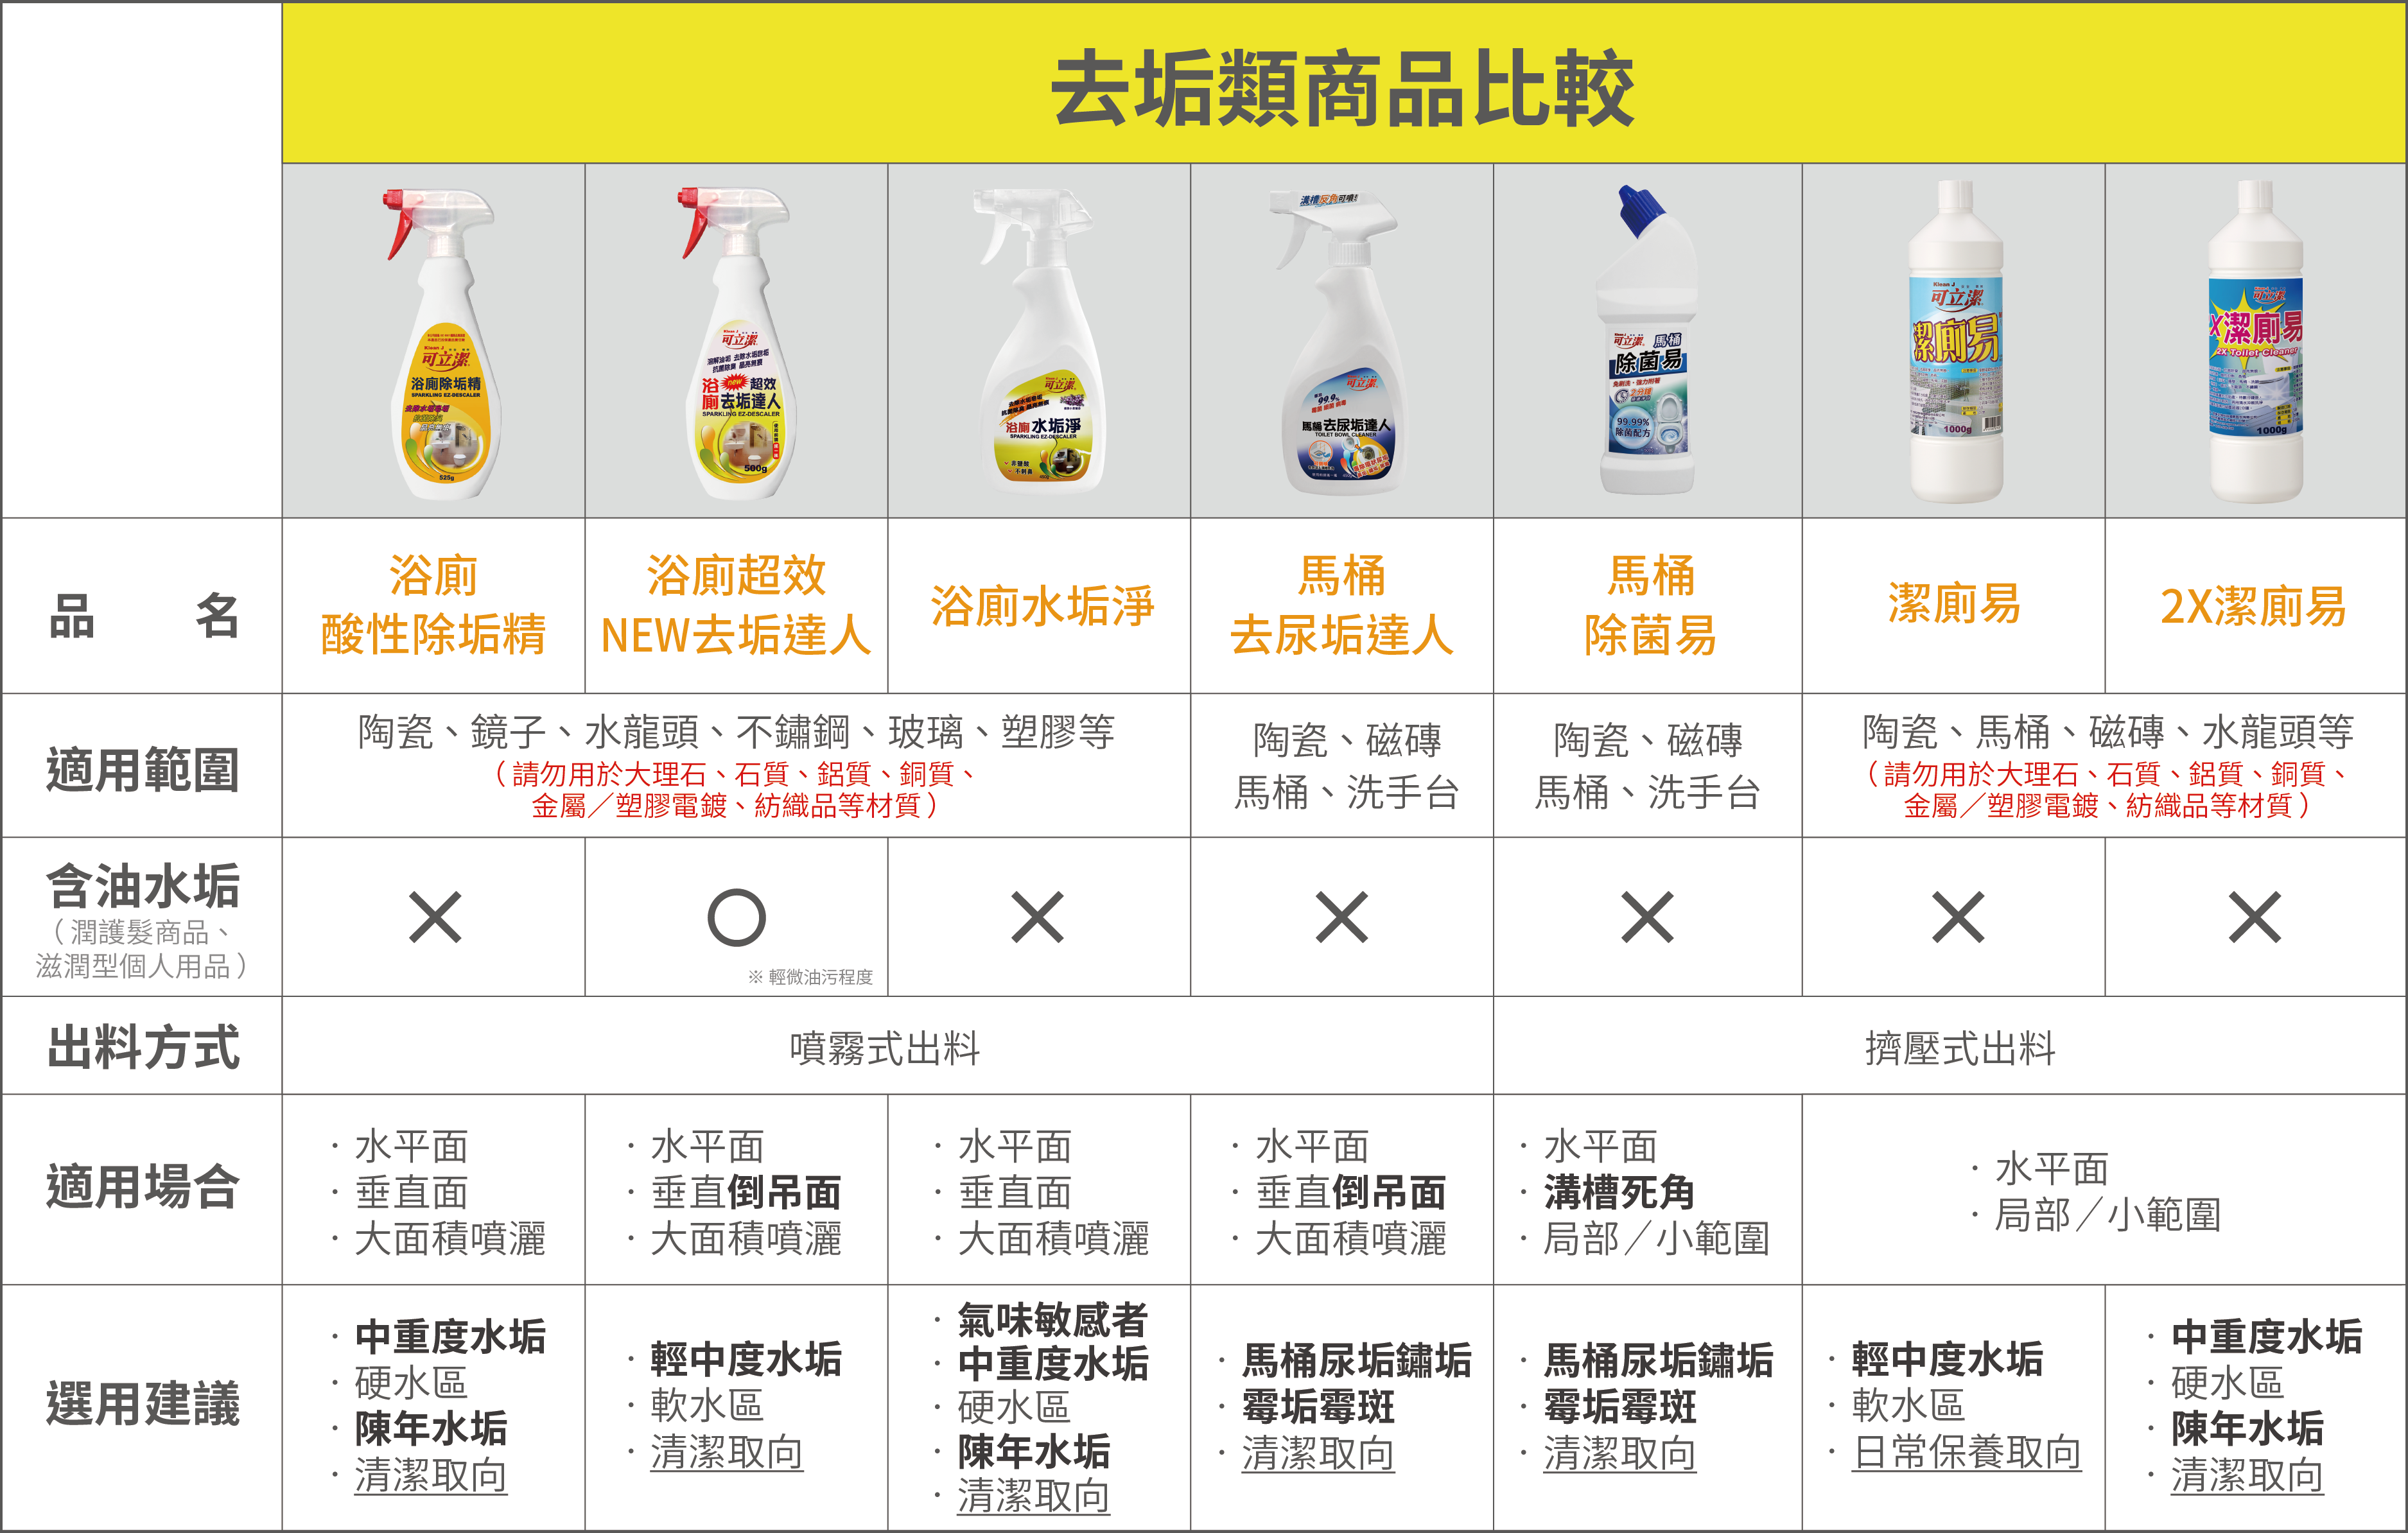cleaner: (634, 177, 814, 503), (939, 182, 1127, 489), (1246, 186, 1425, 496), (2182, 177, 2345, 507), (1559, 182, 1725, 493), (370, 182, 521, 500), (1887, 177, 2020, 507)
